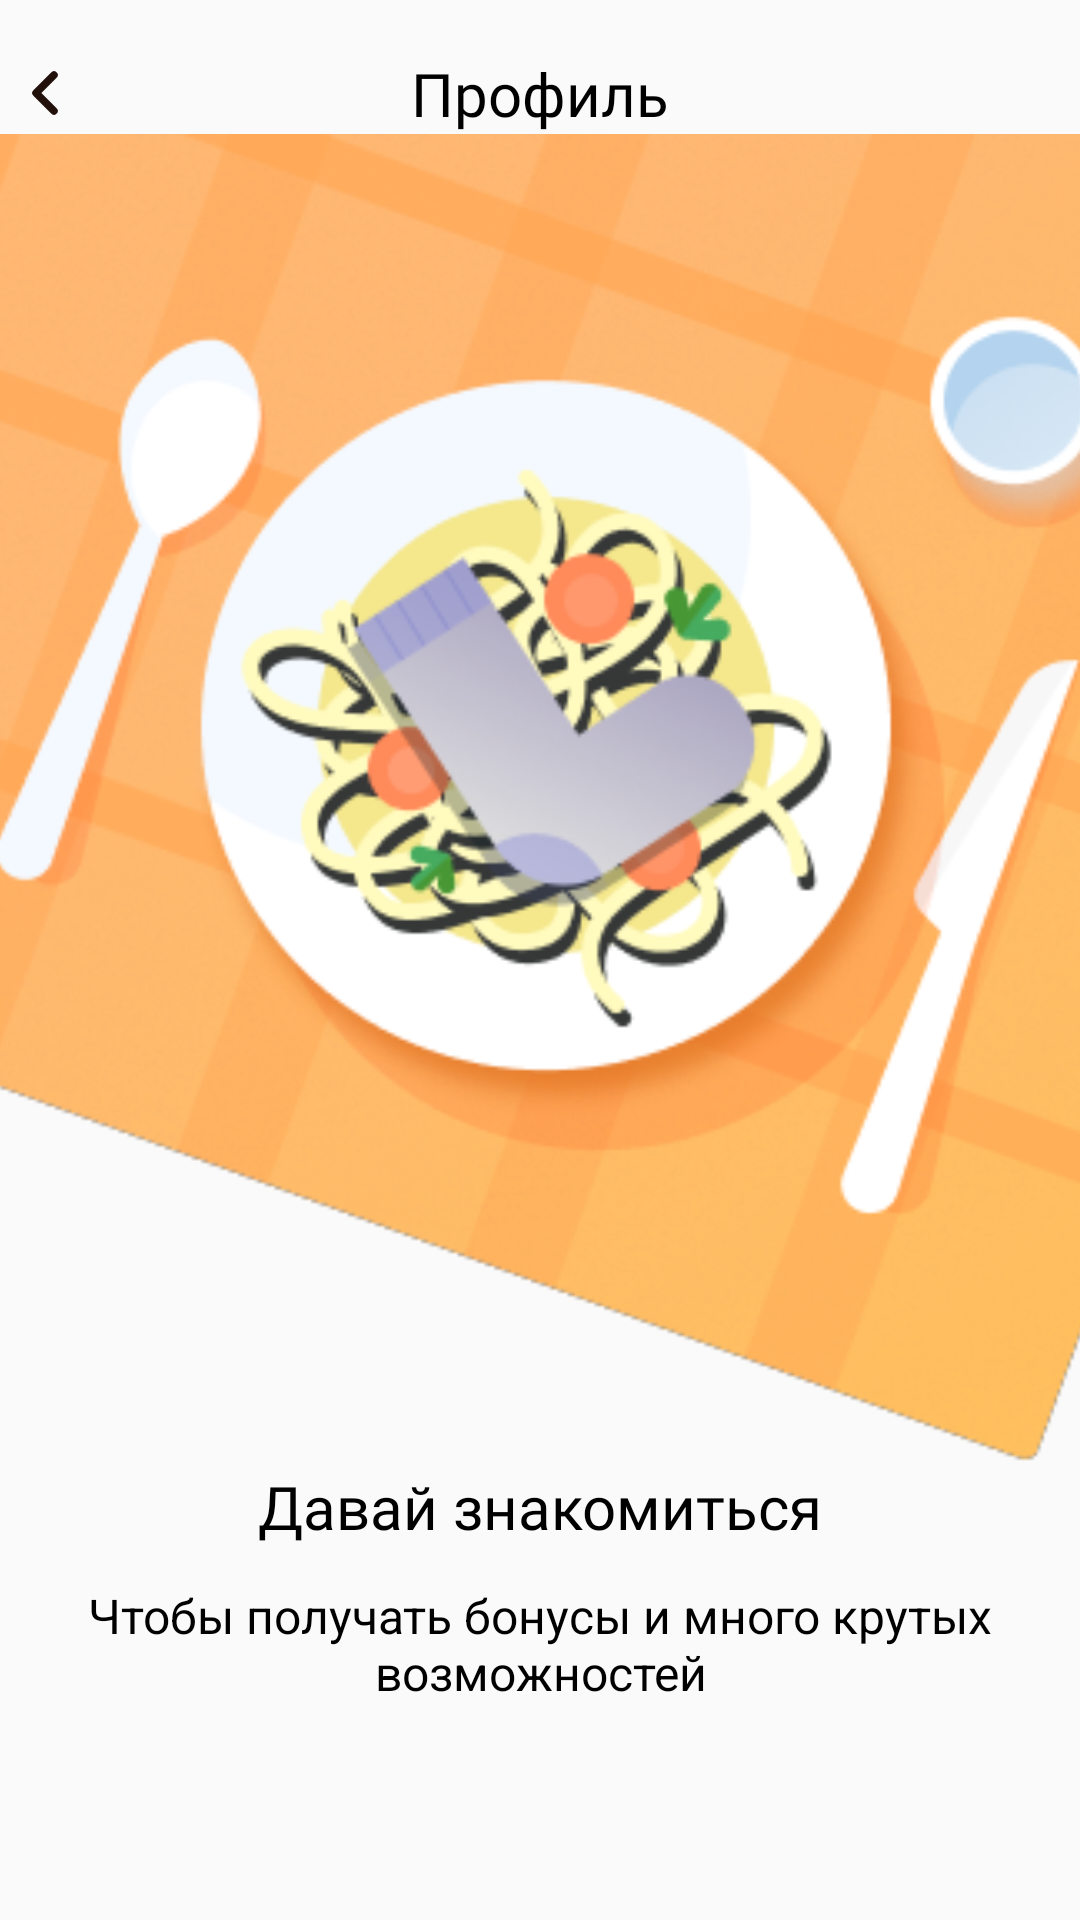

Named icons in this screenshot (1080*1920) and their bounding boxes, detection(x1, y1, x2, y2):
arrow back: detection(32, 71, 58, 115)
